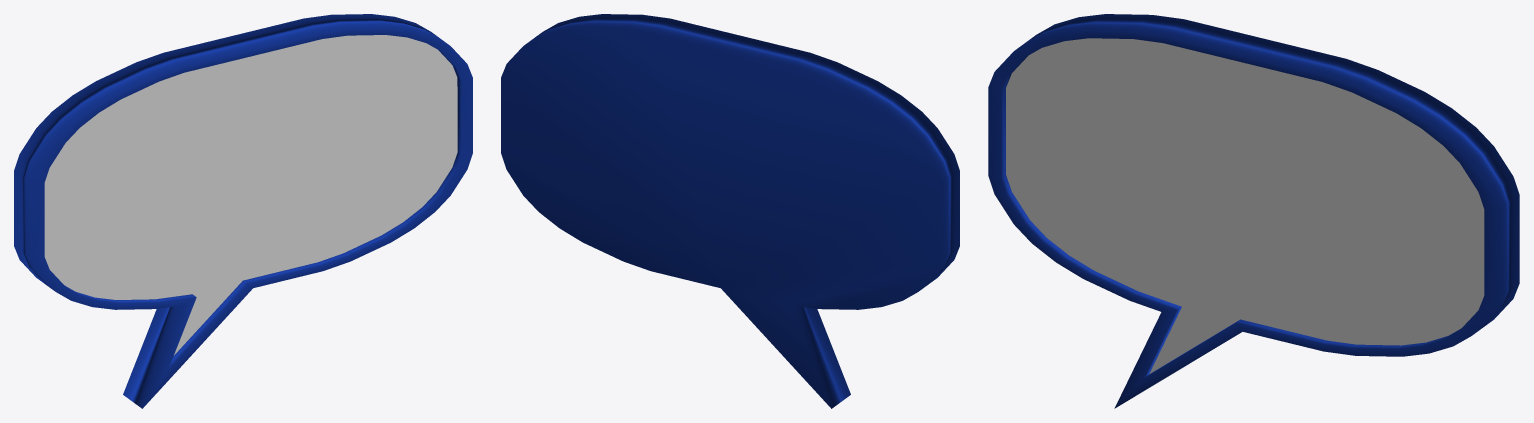
Rendered from speechbubble_sun_mirror.dae.
3 views of the same model, side by side, from view 1: azimuth 30°, elevation 25°; view 2: azimuth 150°, elevation 25°; view 3: azimuth 330°, elevation 25° (orthographic). The views are drawn at different scales.
Parts seen in each view (by area): view 1: Cube_001, Cube; view 2: Cube; view 3: Cube_001, Cube.
Boxes of the visible parts, x1,y1,x2,y2 form: Cube_001: [44, 35, 457, 355]; Cube: [14, 14, 472, 408]; Cube: [501, 14, 959, 408]; Cube_001: [1006, 38, 1484, 373]; Cube: [988, 14, 1519, 408].
Size of the model in its own units: 3.79 by 0.2921 by 2.74.
